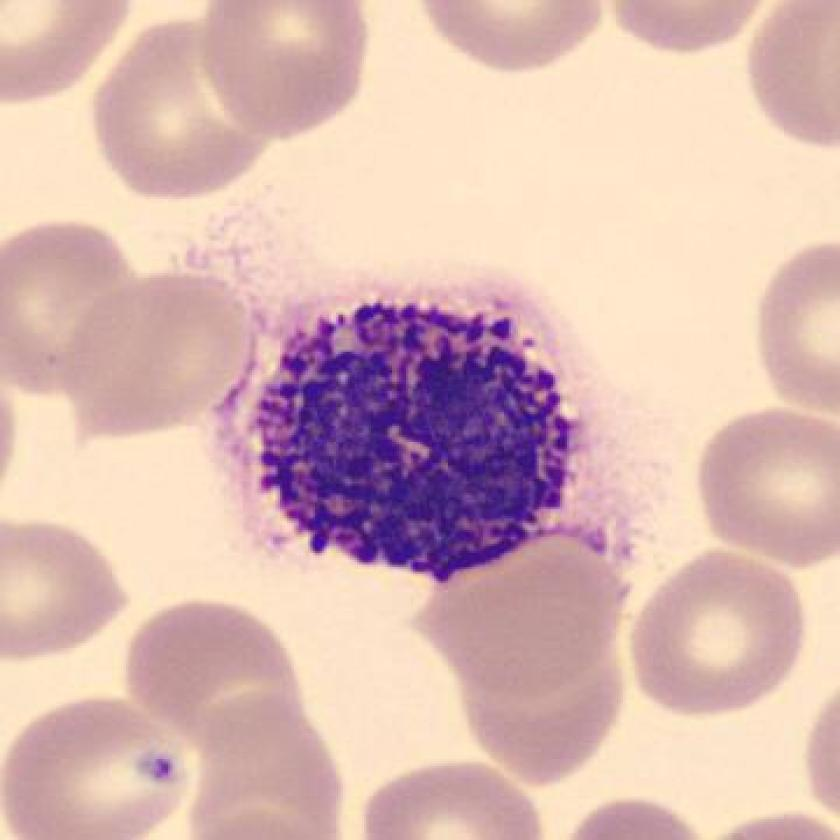basophil: (246, 286, 594, 587)
